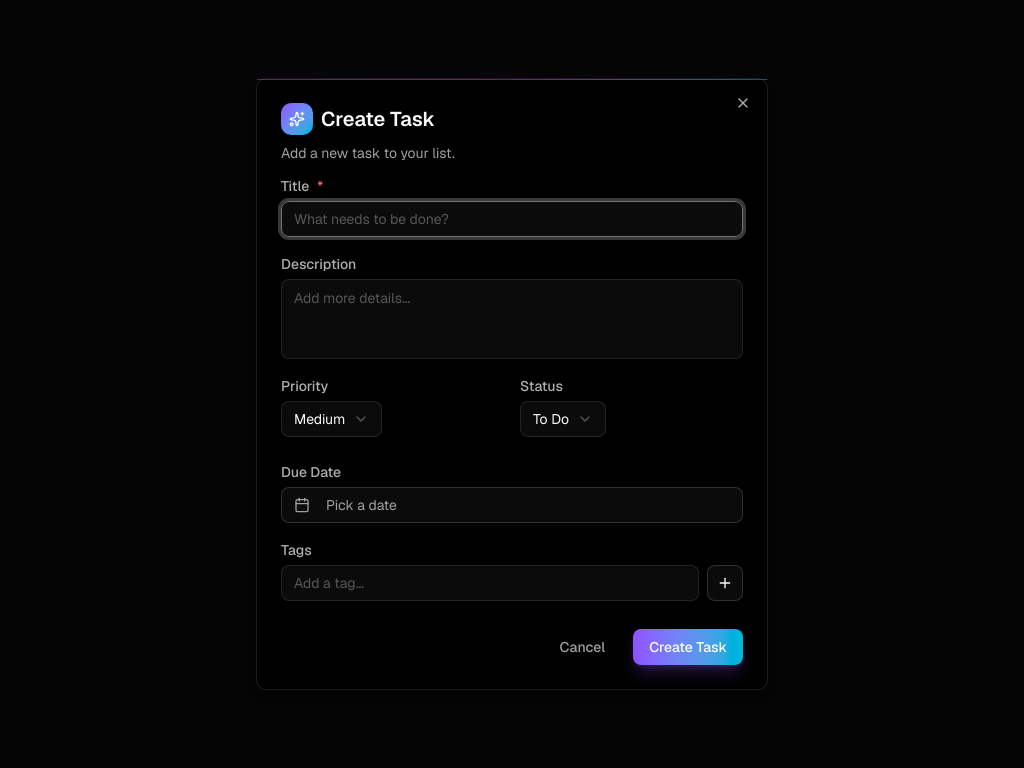
Test: TaskForm › User Interactions › Tag Management › adds a tag when clicking the add button
This screenshot has width=1024, height=768.
Type "newtag" into the field with placeholder "Add a tag..." at point(490, 583), box x1=281 y1=565 x2=699 y2=601
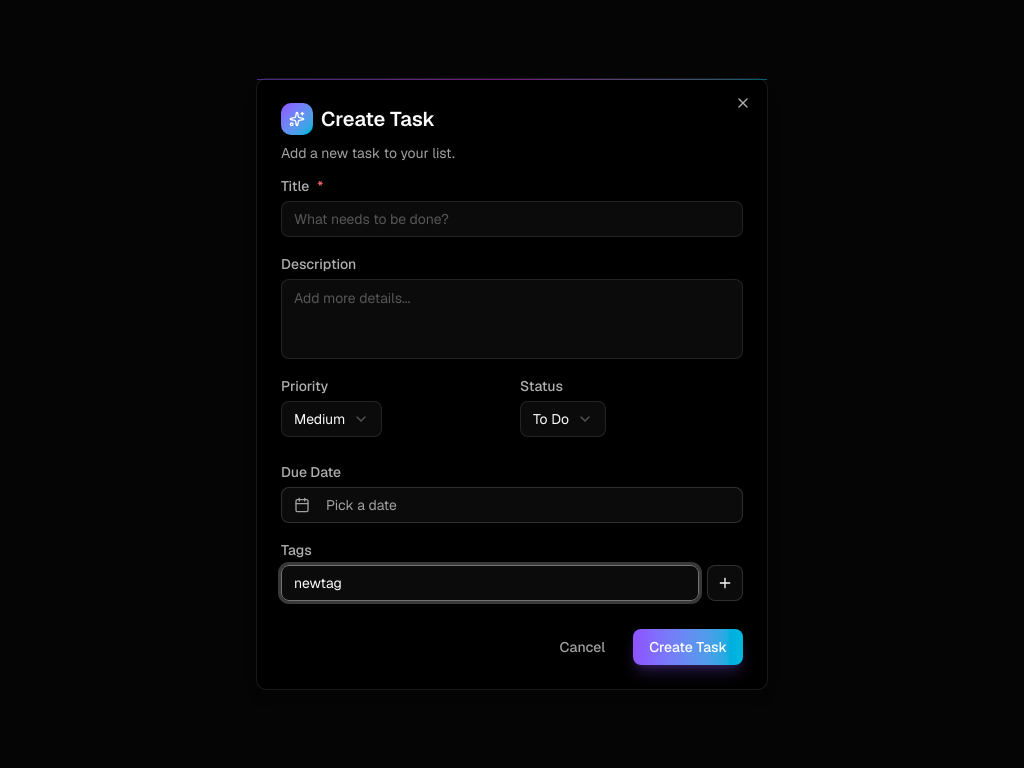
Click the button without text below "Status" at point(725, 583), box x1=707 y1=565 x2=743 y2=601
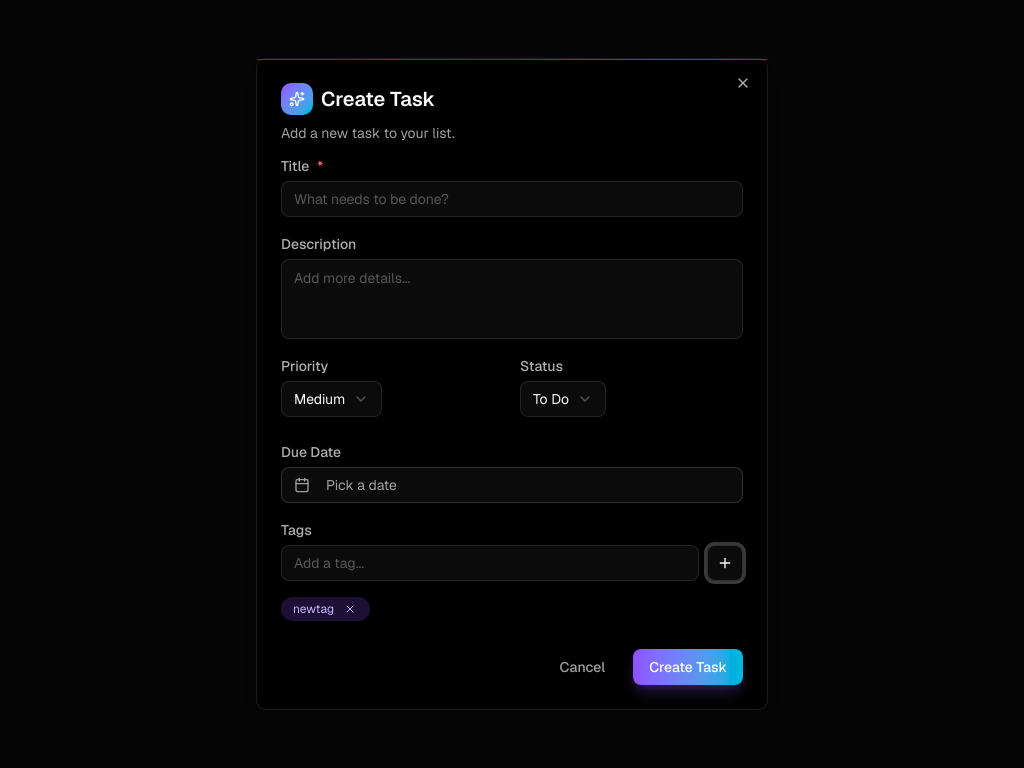
Now the text "newtag" is shown, box x1=281 y1=597 x2=370 y2=621
